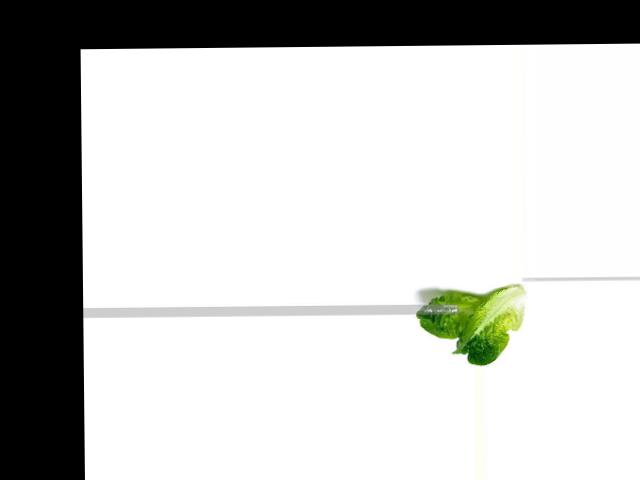lettuce: (413, 289, 529, 366)
